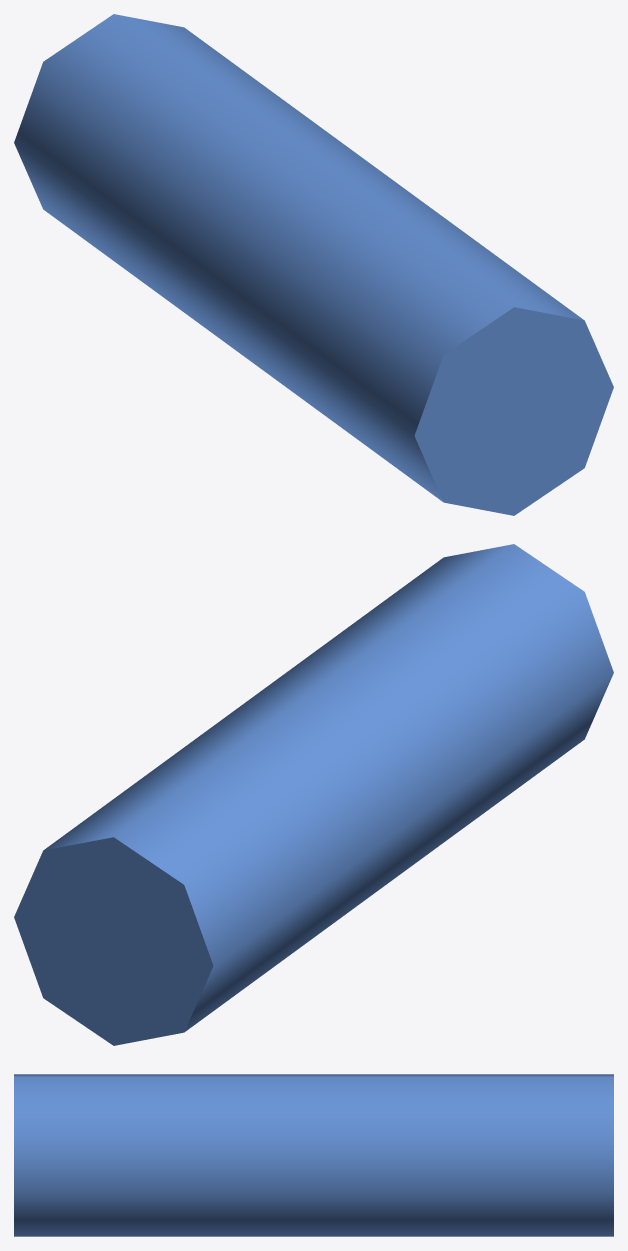
Rendered from support_large_horizontal.glb.
The picture shows the model from 3 angles, top to bottom: view 1: azimuth 30°, elevation 25°; view 2: azimuth 150°, elevation 25°; view 3: azimuth 270°, elevation 25°; orthographic projection. The views are drawn at different scales.
Parts seen in each view (by area): view 1: support-large-horizontal; view 2: support-large-horizontal; view 3: support-large-horizontal.
Part boxes in pixels (bbox=[...]): support-large-horizontal: bbox=[14, 14, 613, 515]; support-large-horizontal: bbox=[14, 544, 613, 1045]; support-large-horizontal: bbox=[14, 1074, 613, 1236].
Bounding box in the file's own units: 0.2876 × 0.2876 × 1.
1 material, 1 textured.
